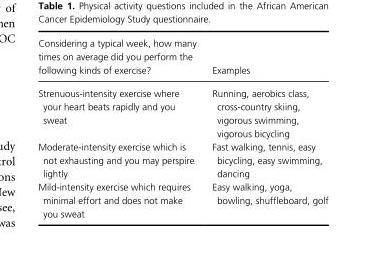table: (37, 37, 327, 218)
table column: (37, 37, 203, 218), (203, 37, 327, 218)
table column header: (37, 37, 327, 81)
table row: (37, 81, 327, 139), (37, 37, 327, 81), (37, 139, 327, 179), (37, 179, 327, 218)
